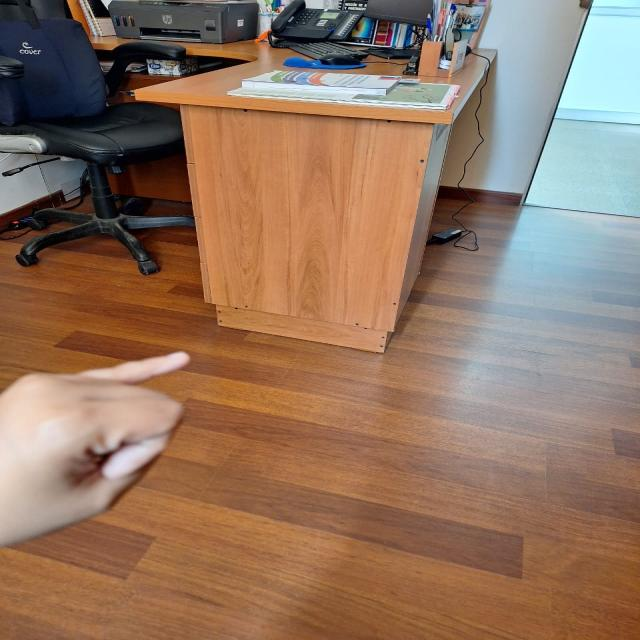Z: (0, 332, 230, 552)
